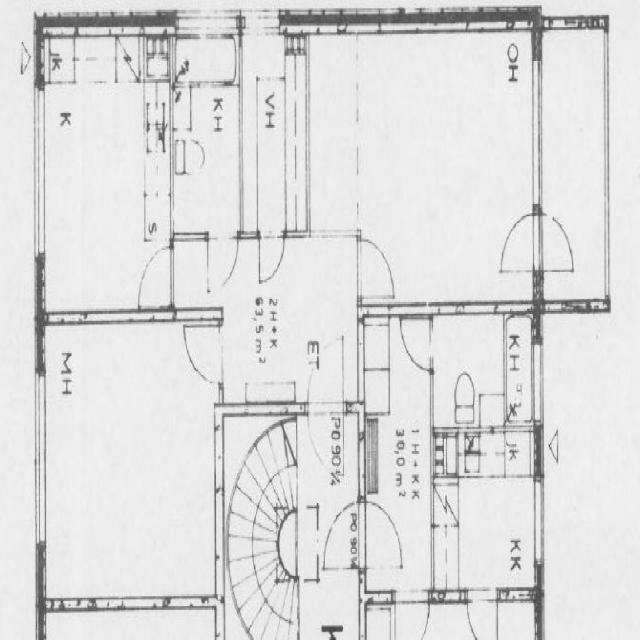door: (307, 402, 343, 477), (307, 339, 343, 414), (185, 325, 224, 384), (533, 215, 574, 270), (502, 215, 542, 270), (137, 247, 174, 306), (357, 241, 393, 298), (208, 232, 237, 291), (259, 232, 284, 283)
